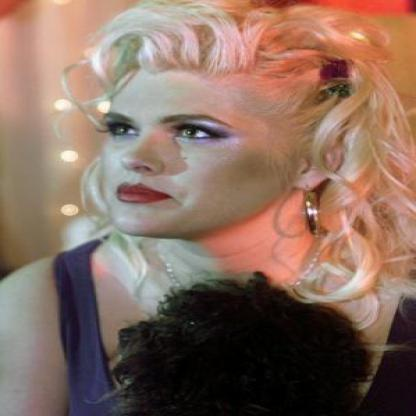face: (74, 22, 312, 250)
